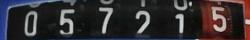digits: (210, 5, 227, 32), (135, 10, 152, 37), (98, 7, 113, 34), (59, 8, 74, 35), (24, 10, 37, 36), (175, 12, 187, 38)
